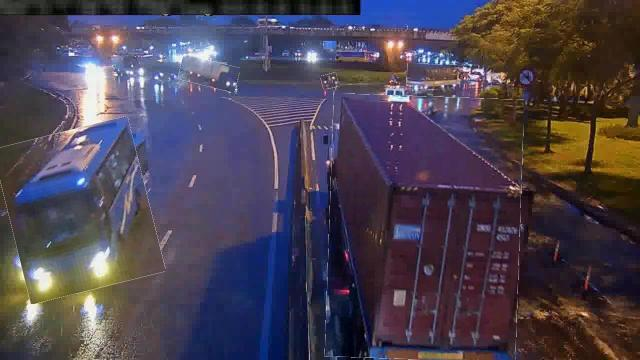Bike: (322, 73, 338, 89)
Bus: (1, 123, 157, 297)
Truck: (326, 95, 522, 359), (179, 57, 239, 89), (407, 64, 463, 90)
